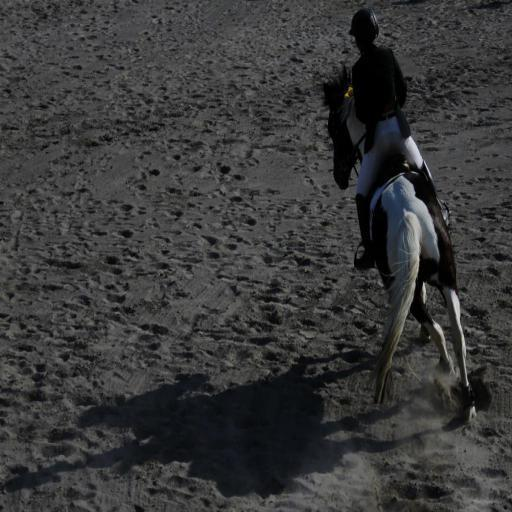horse: (327, 60, 476, 424)
